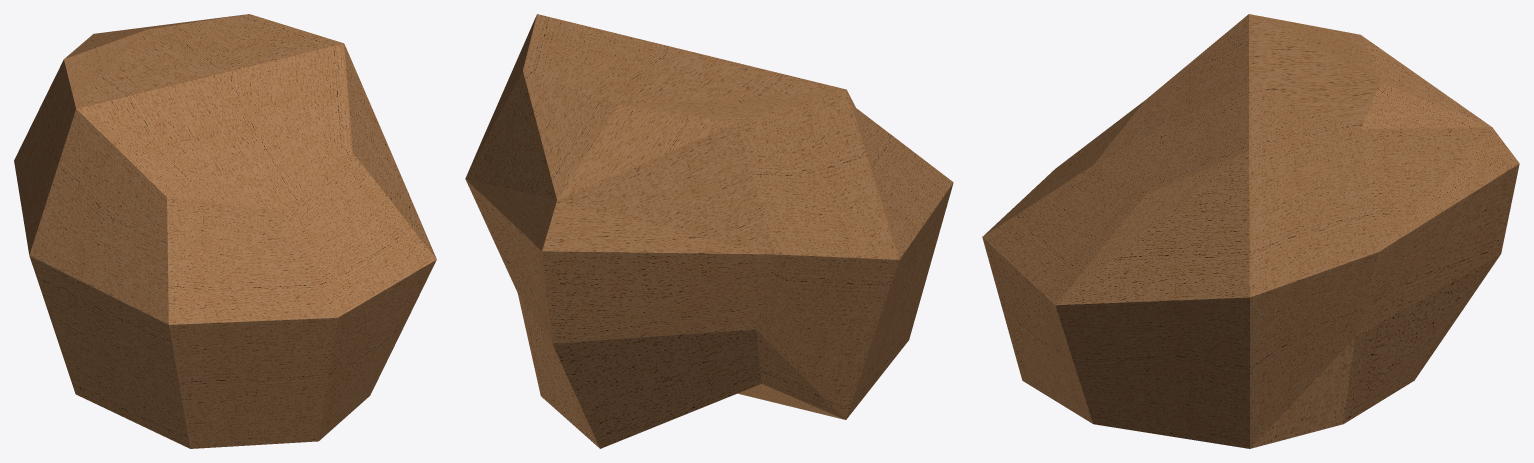
Rendered from Stone_Ver2.obj.
The picture shows the model from 3 angles, left to right: view 1: azimuth 30°, elevation 25°; view 2: azimuth 150°, elevation 25°; view 3: azimuth 270°, elevation 25°; orthographic projection. The views are drawn at different scales.
Visible parts, largest first — view 1: Stone4; view 2: Stone4; view 3: Stone4.
Part boxes in pixels (left/top/right/bottom): Stone4: left=14, top=14, right=436, bottom=448; Stone4: left=465, top=14, right=953, bottom=448; Stone4: left=982, top=14, right=1519, bottom=448.
Bounding box in the file's own units: 1.01 × 0.7653 × 1.25.
1 material, 1 textured.
